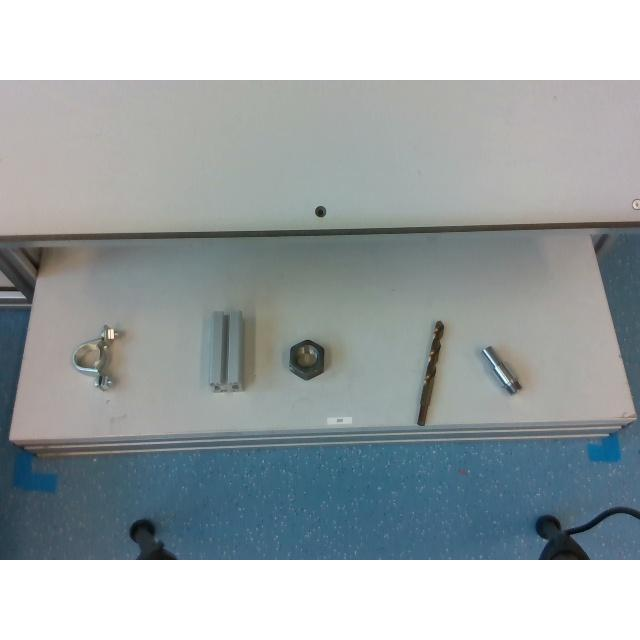Axis2: (481, 344, 523, 396)
Drill: (417, 320, 445, 426)
Housing: (72, 326, 118, 386)
M30: (289, 338, 325, 378)
S40_40_G: (208, 310, 244, 390)
